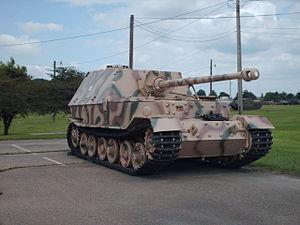sau: (60, 57, 287, 173)
